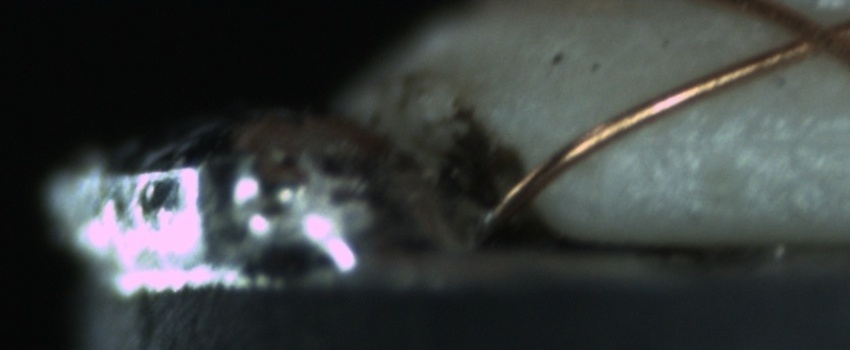CL: (777, 3, 847, 65)
DL: (683, 99, 850, 162)
